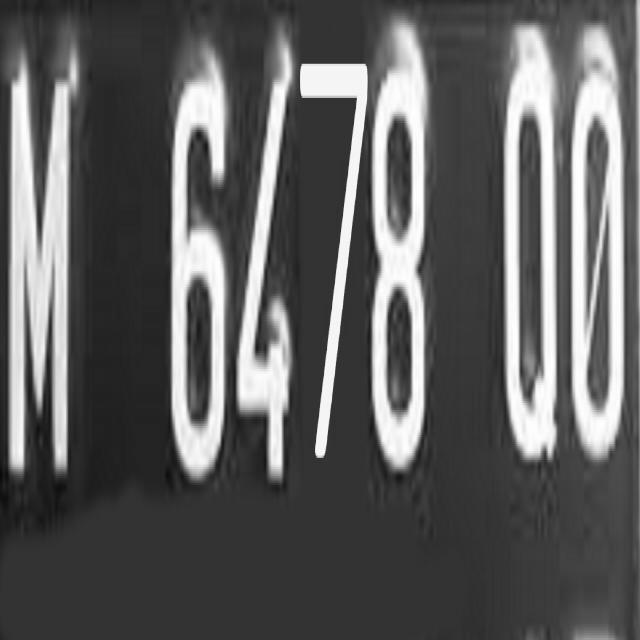4: (240, 60, 296, 492)
6: (163, 53, 227, 506)
7: (296, 32, 364, 490)
8: (371, 48, 428, 484)
M: (0, 60, 80, 489)
O: (565, 70, 640, 457)
Q: (500, 63, 564, 476)
